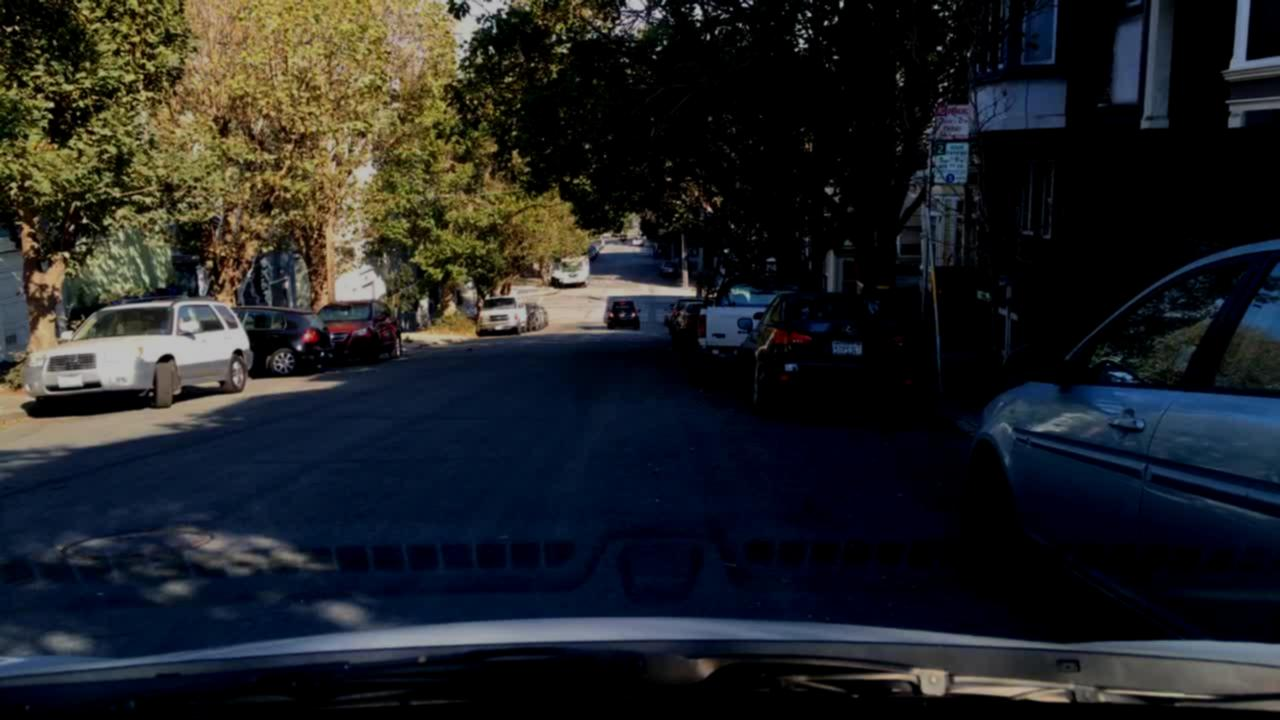lexus: (837, 320, 859, 338)
